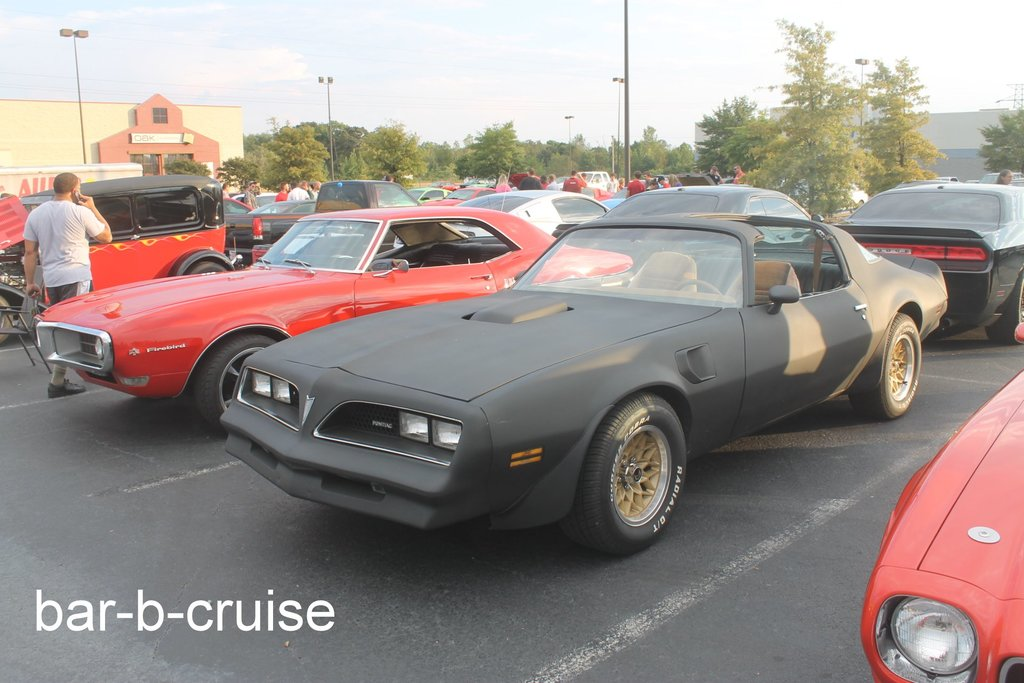mobil: (264, 162, 960, 636)
